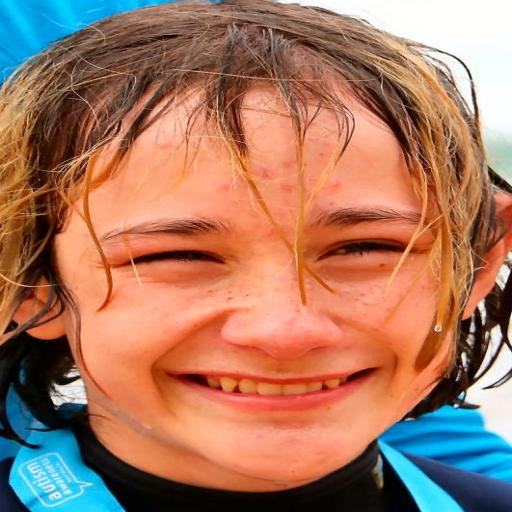Autism: (6, 10, 512, 482)
